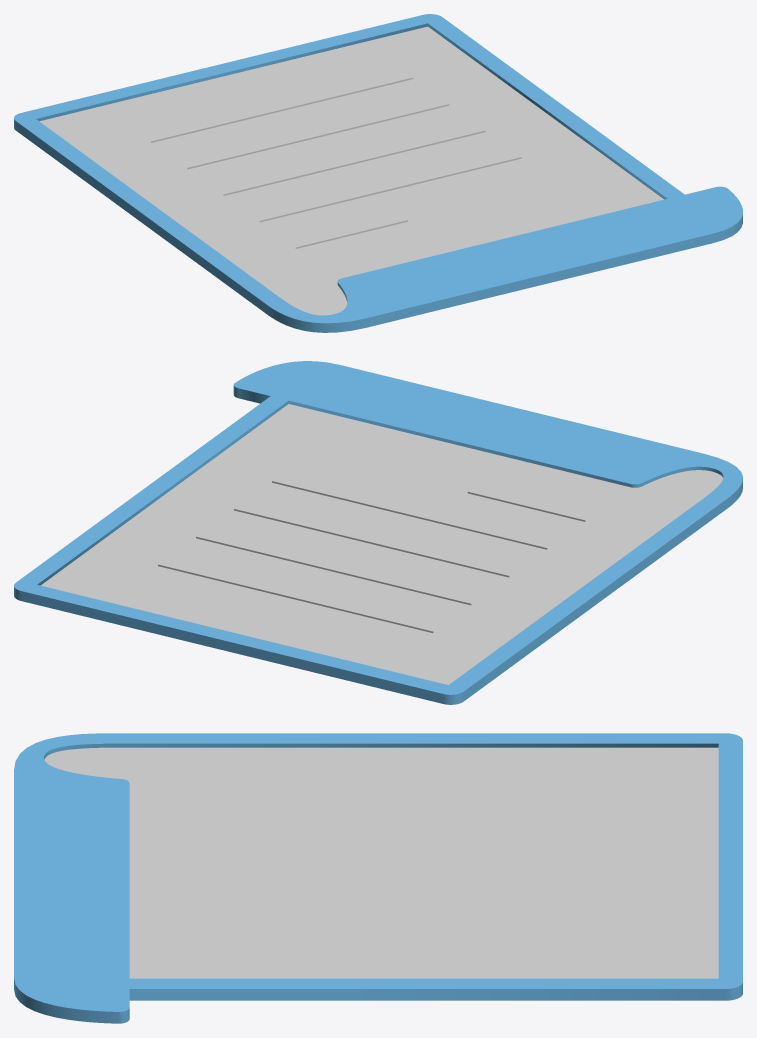
The model's file is emoji_u1f4c3.glb.
3 views of the same model, one above another, from view 1: azimuth 30°, elevation 25°; view 2: azimuth 150°, elevation 25°; view 3: azimuth 270°, elevation 25° (orthographic). The views are drawn at different scales.
Visible parts, largest first — view 1: emoji_u1f4c3; view 2: emoji_u1f4c3; view 3: emoji_u1f4c3.
Part boxes in pixels (x1,y1,x2,y2): emoji_u1f4c3: (14, 14, 742, 332); emoji_u1f4c3: (14, 361, 742, 704); emoji_u1f4c3: (14, 733, 742, 1023).
Bounding box in the file's own units: 0.0306 × 0.0006 × 0.0338.
